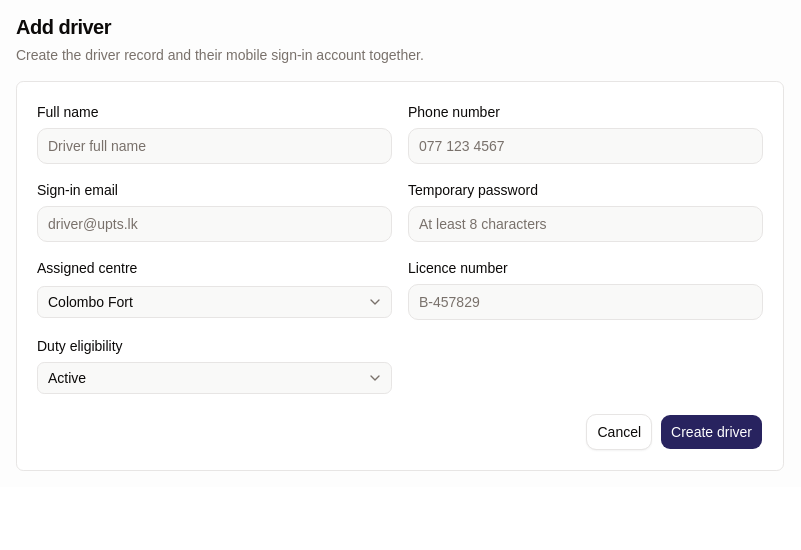
Test: DriverFormPage › rejects a driver with no licence number
Expected: the heading "Add driver" is shown, [16, 16, 111, 38]
Step 1. Type "Kamal" into the field with placeholder "Driver full name" → (214, 146), box [37, 128, 392, 164]
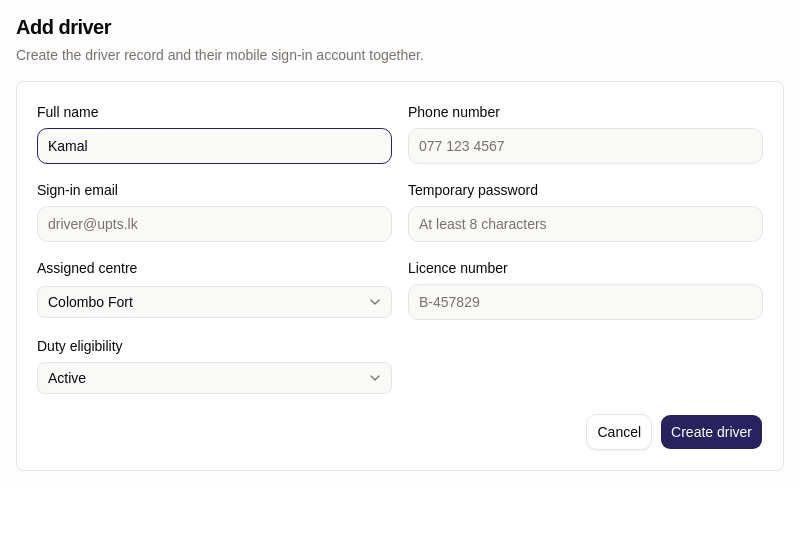
Step 2. Type "k@upts.lk" into the field with placeholder "driver@upts.lk" → (214, 224), box [37, 206, 392, 242]
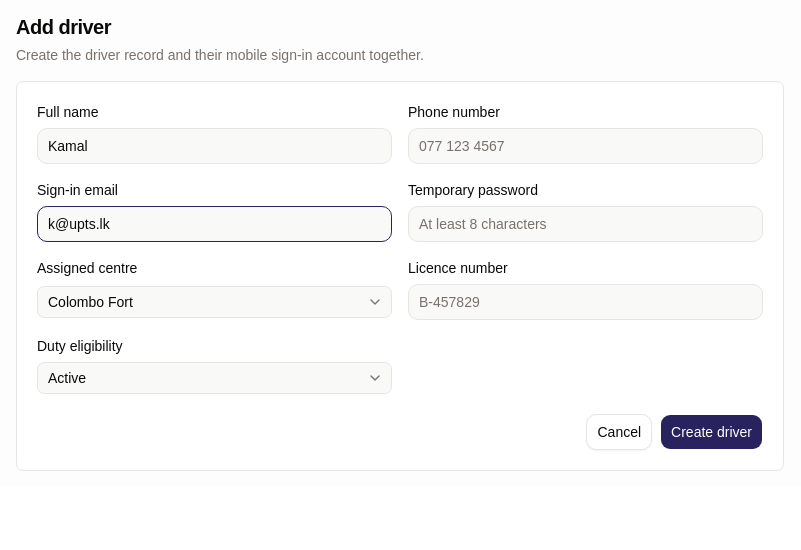
Step 3. Type "Passw0rd!" into the password field with placeholder "At least 8 characters" → (586, 224), box [408, 206, 763, 242]
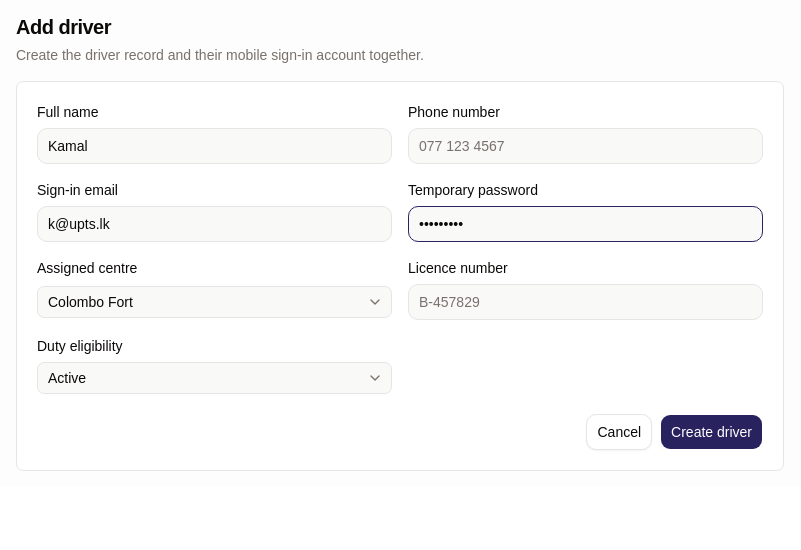
Step 4. Click the button "Create driver" → (712, 432), box [660, 414, 763, 450]
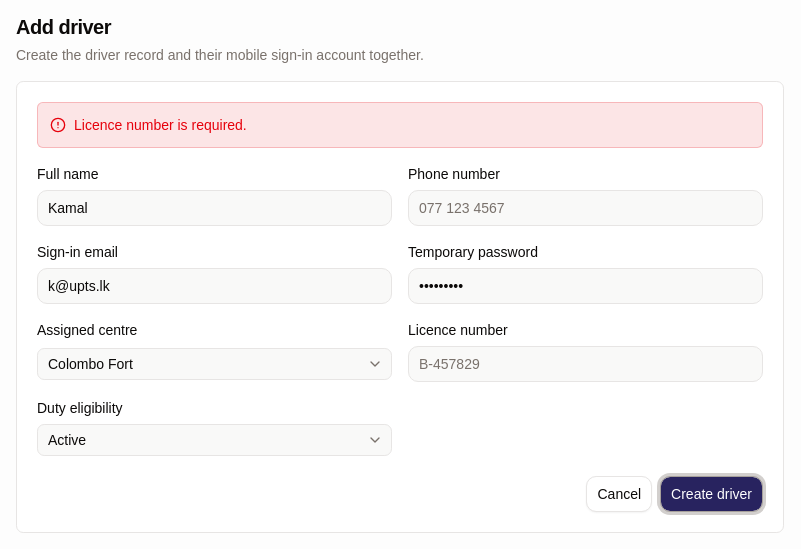
Now the text "Licence number is required." is shown, box [74, 115, 247, 135]
